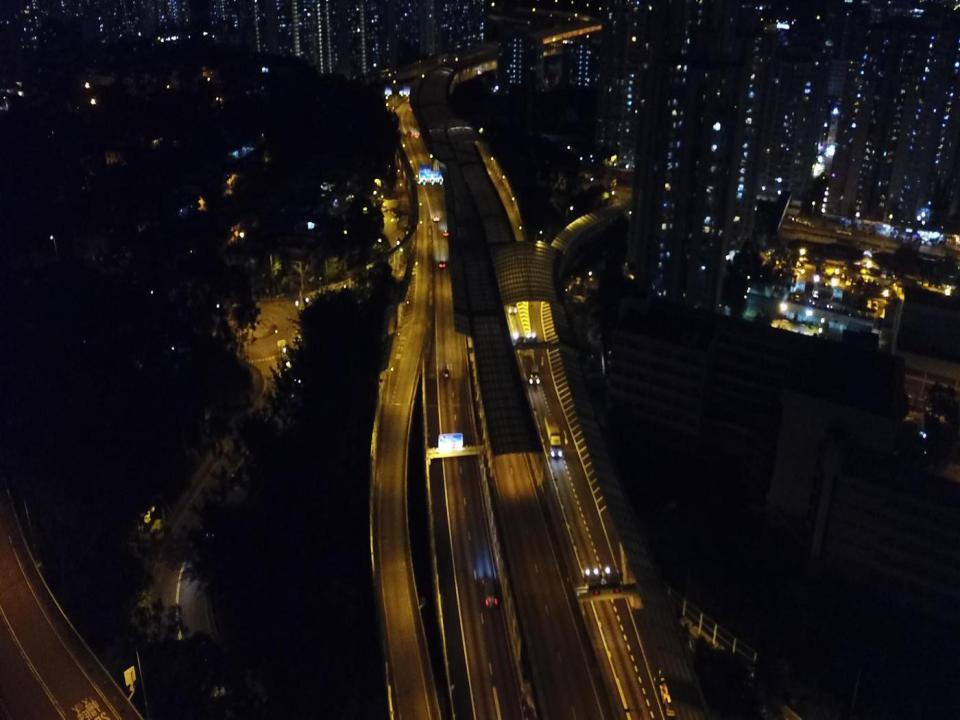car: (481, 578, 499, 610), (528, 363, 540, 386), (507, 294, 517, 314), (441, 363, 452, 380), (437, 258, 446, 271), (442, 228, 449, 238), (432, 215, 440, 223)
truck: (542, 413, 563, 460)
